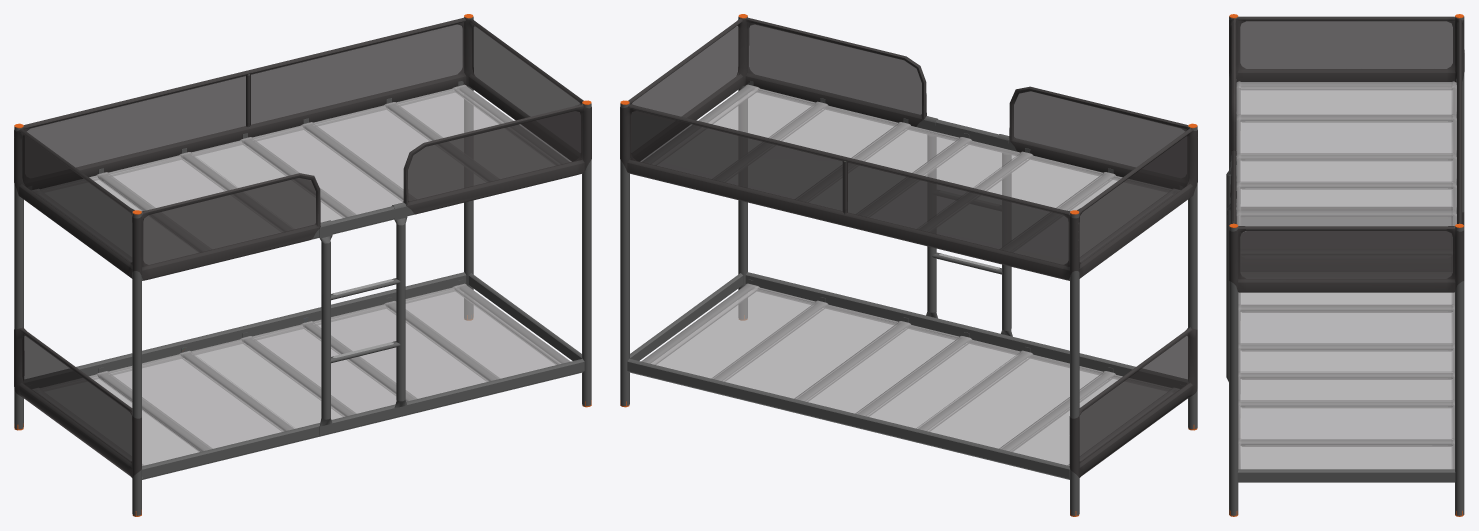
The model's file is tuffing_rama_ozka_pietrowego_00239233.glb.
The picture shows the model from 3 angles, left to right: view 1: azimuth 30°, elevation 25°; view 2: azimuth 150°, elevation 25°; view 3: azimuth 270°, elevation 25°; orthographic projection. The views are drawn at different scales.
Parts seen in each view (by area): view 1: tuffing_rama_ozka_pietrowego_00239233; view 2: tuffing_rama_ozka_pietrowego_00239233; view 3: tuffing_rama_ozka_pietrowego_00239233.
Boxes of the visible parts, left/top/right/bottom form: tuffing_rama_ozka_pietrowego_00239233: left=14, top=14, right=591, bottom=516; tuffing_rama_ozka_pietrowego_00239233: left=620, top=14, right=1197, bottom=516; tuffing_rama_ozka_pietrowego_00239233: left=1226, top=14, right=1464, bottom=516.
Bounding box in the file's own units: 2.07 × 1.31 × 0.9758.
Materials: 2 (2 with a texture image).
